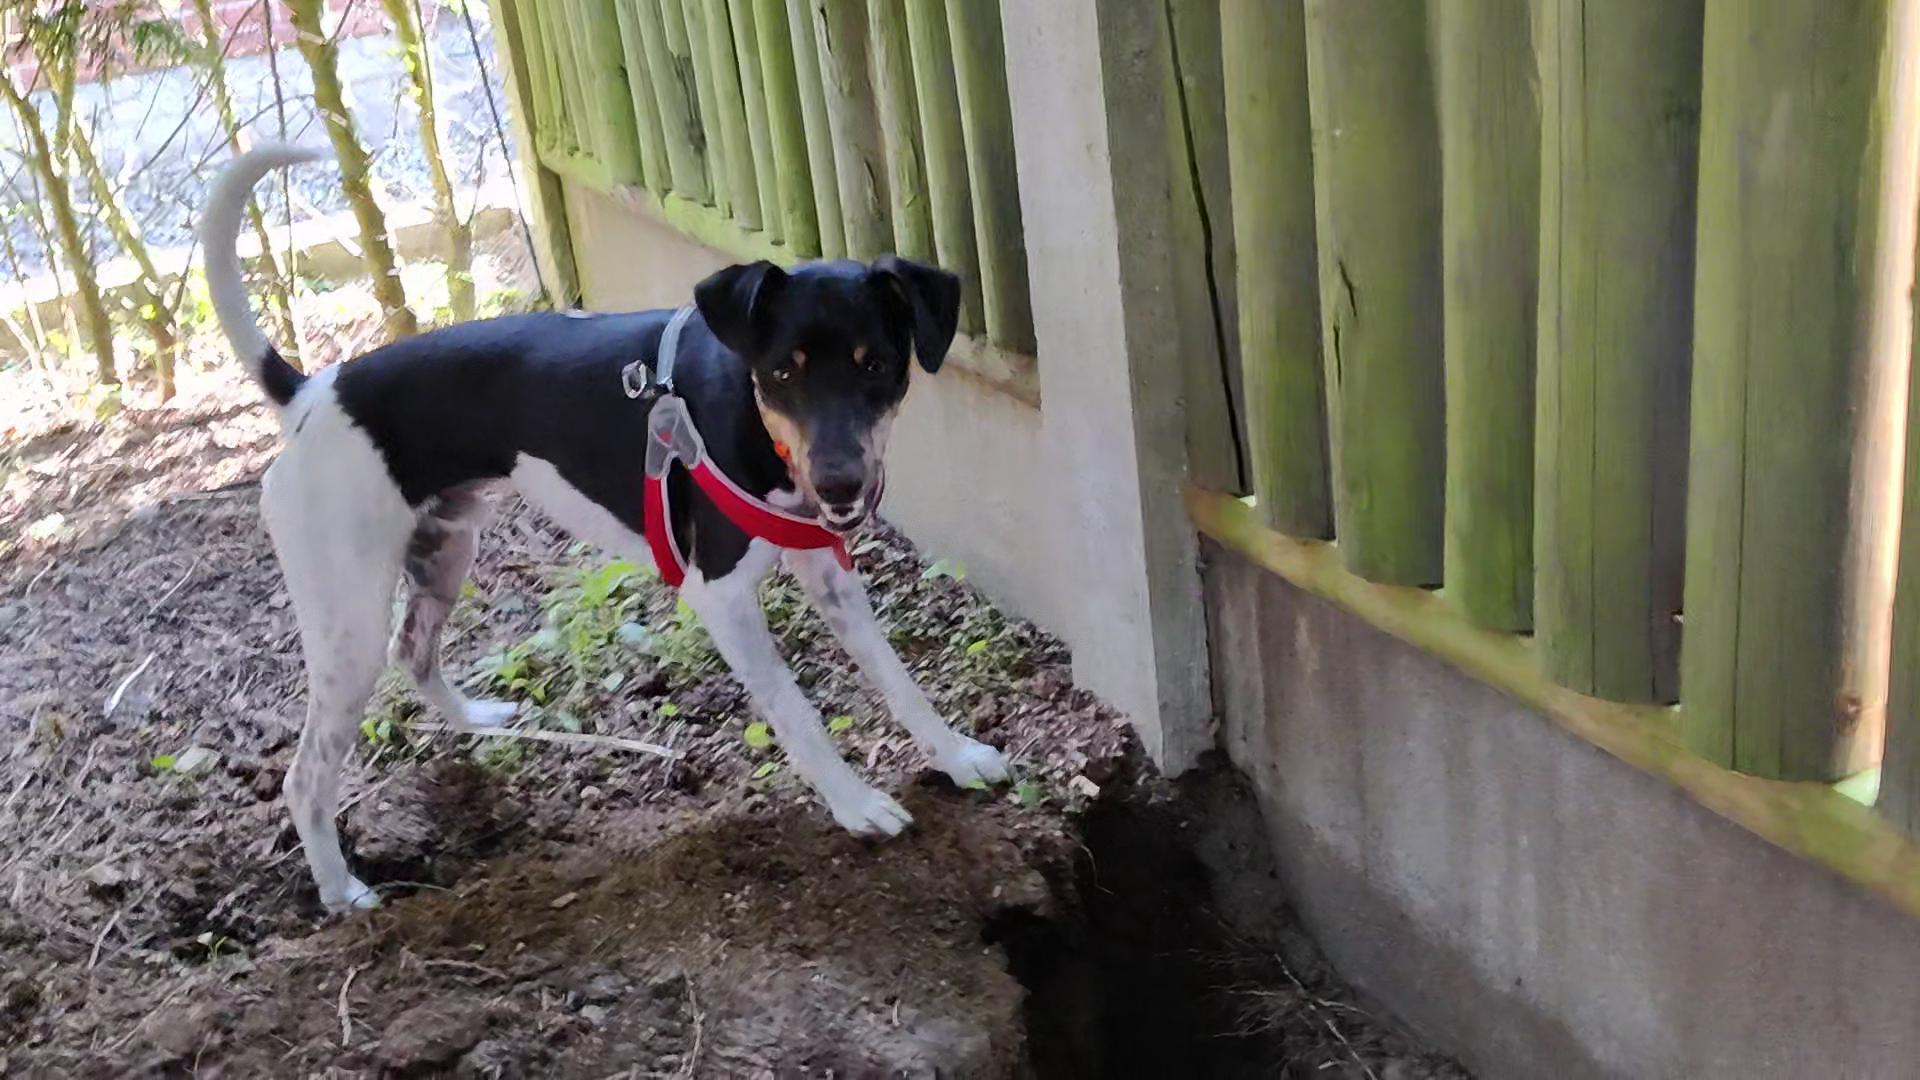Dog: (152, 123, 1052, 942)
